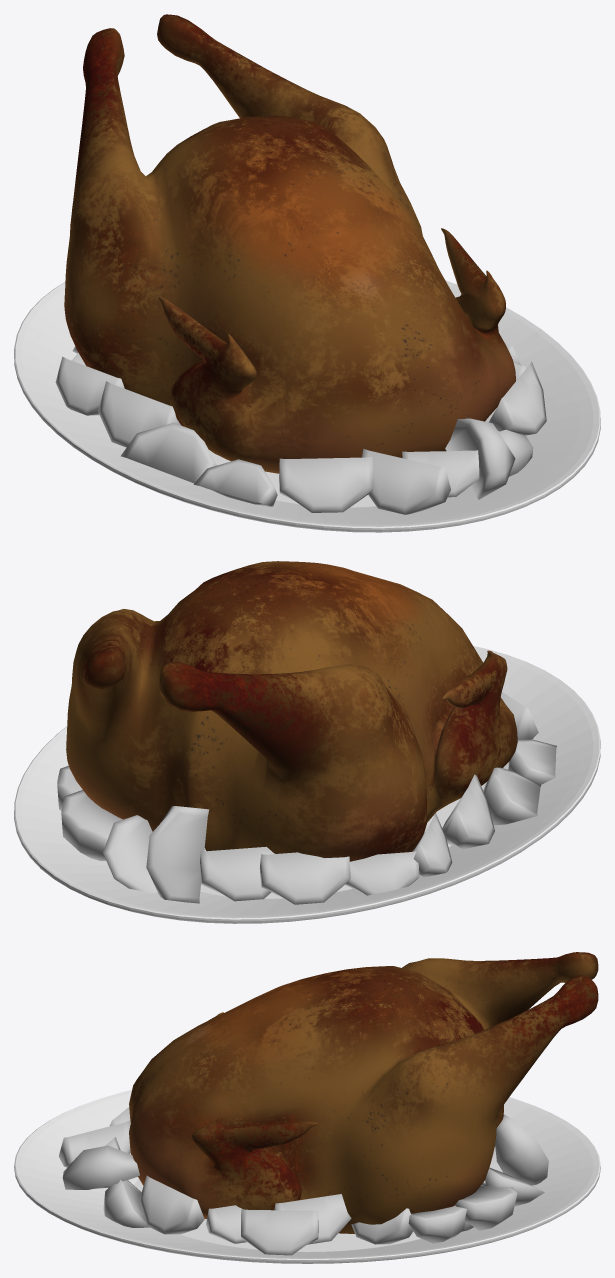
The model's file is frango.fbx.
3 renders of one model, top to bottom at view 1: azimuth 30°, elevation 25°; view 2: azimuth 150°, elevation 25°; view 3: azimuth 270°, elevation 25°, orthographic. The views are drawn at different scales.
Parts seen in each view (by area): view 1: frango, batata, Prato; view 2: frango, batata, Prato; view 3: frango, batata, Prato.
Part boxes in pixels (x1,y1,x2,y2): frango: [64, 14, 515, 473]; batata: [55, 340, 546, 514]; Prato: [14, 280, 600, 532]; frango: [66, 561, 517, 861]; batata: [57, 692, 556, 904]; Prato: [14, 646, 600, 923]; frango: [129, 952, 598, 1233]; batata: [58, 1107, 548, 1255]; Prato: [14, 1090, 600, 1263].
Size of the model in its own units: 281 by 164 by 369.
